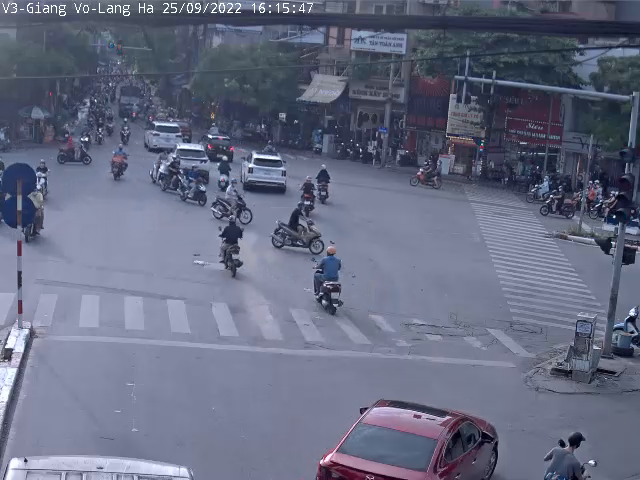người trên xe: (302, 239, 357, 317), (535, 421, 600, 480), (274, 197, 325, 258), (212, 174, 255, 230), (216, 218, 248, 279), (56, 132, 97, 172), (412, 147, 446, 195), (176, 159, 208, 210), (105, 141, 137, 190), (289, 170, 318, 218), (156, 147, 185, 195), (27, 158, 54, 203), (311, 163, 334, 206), (212, 156, 236, 190)
